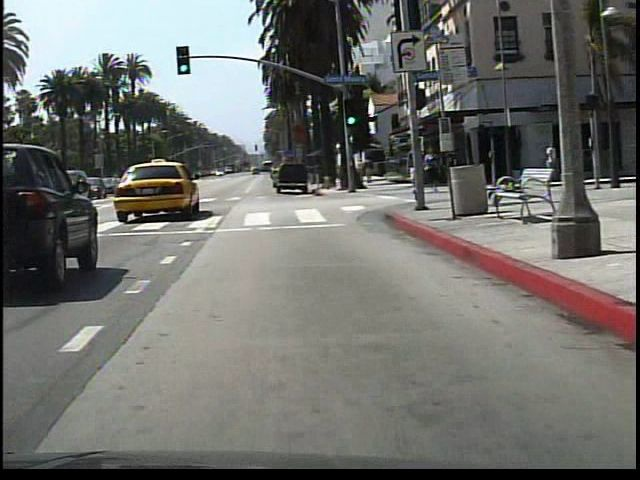person: (409, 146, 425, 197), (541, 139, 557, 182)
